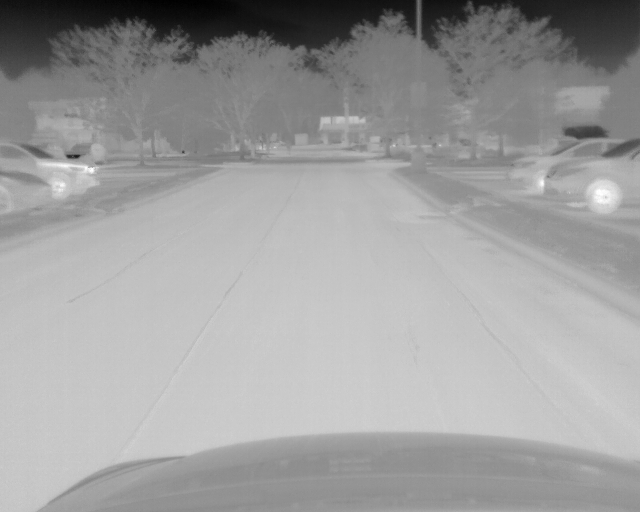car: (506, 137, 640, 200), (545, 137, 640, 218), (1, 144, 100, 203), (1, 170, 52, 214)
